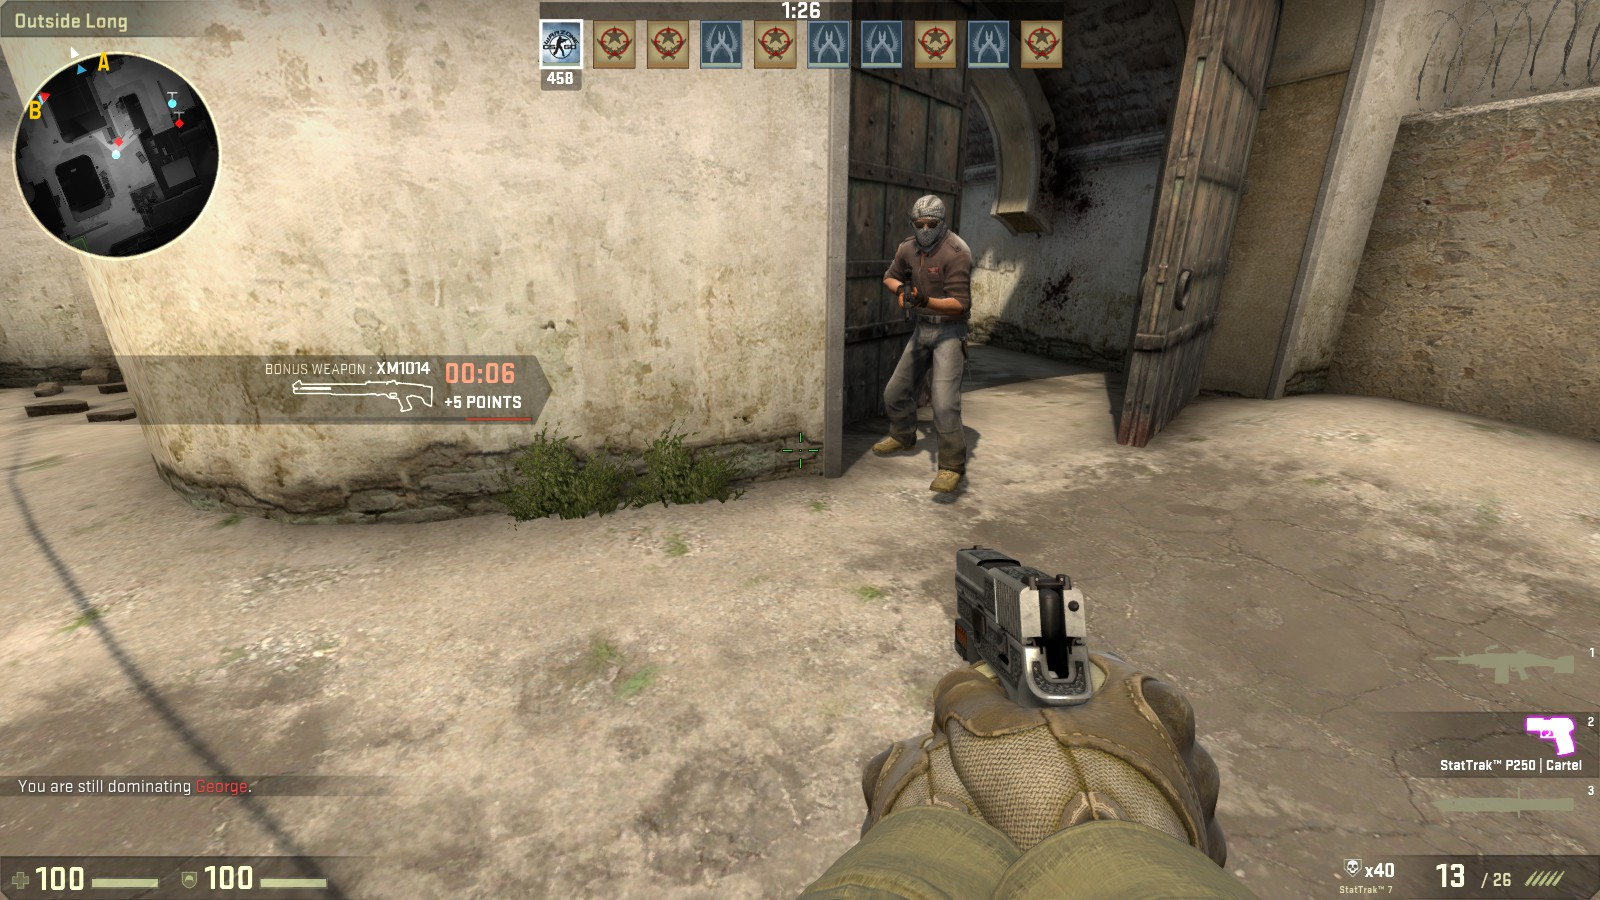t: (871, 189, 978, 505)
th: (907, 190, 951, 251)
